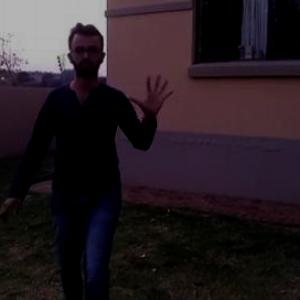follow_hand: (130, 72, 177, 120)
